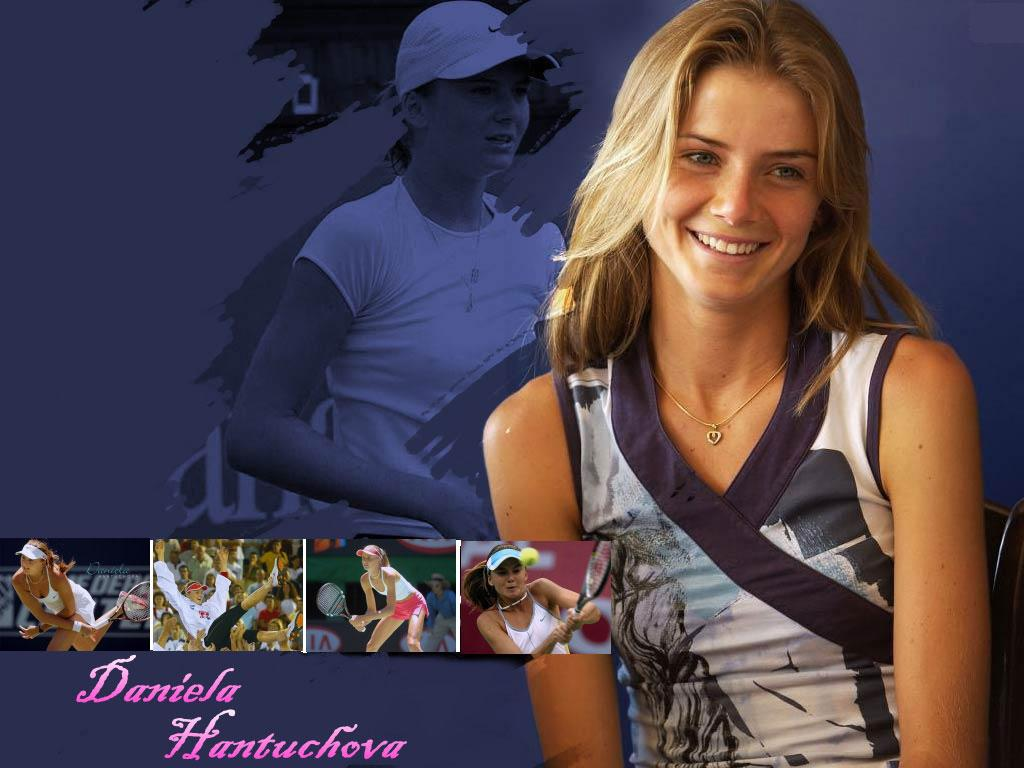face: (642, 74, 820, 303), (430, 60, 529, 167), (494, 559, 524, 597), (20, 553, 40, 573), (189, 586, 204, 603), (362, 552, 376, 570), (231, 621, 242, 634), (169, 551, 179, 565), (430, 580, 440, 593), (172, 625, 181, 639), (254, 569, 264, 581), (236, 591, 246, 603), (162, 614, 171, 627), (189, 539, 198, 552), (179, 566, 188, 578), (206, 574, 215, 586), (270, 622, 279, 634), (265, 595, 273, 608), (273, 540, 281, 552), (230, 546, 238, 558), (249, 552, 257, 563), (293, 557, 301, 568), (196, 546, 203, 558), (171, 542, 180, 551), (155, 595, 163, 605), (232, 585, 241, 593), (283, 583, 289, 592), (206, 538, 214, 544), (296, 599, 301, 608), (178, 582, 183, 591), (208, 591, 214, 597)
